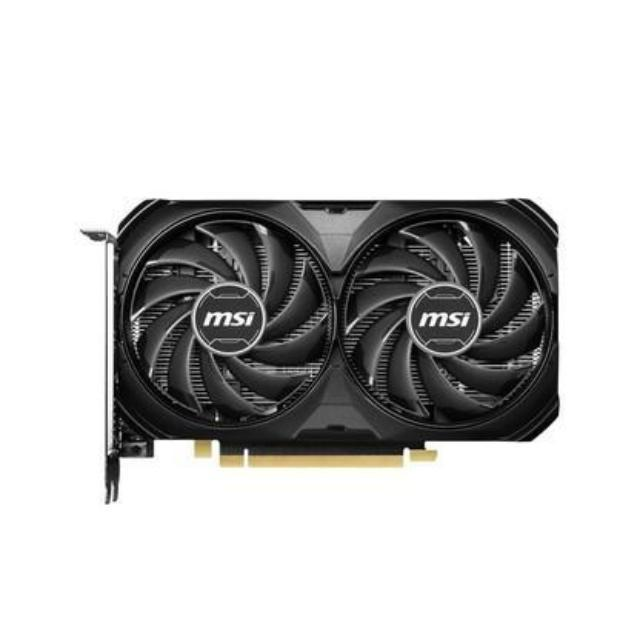GPU: (95, 183, 568, 477)
